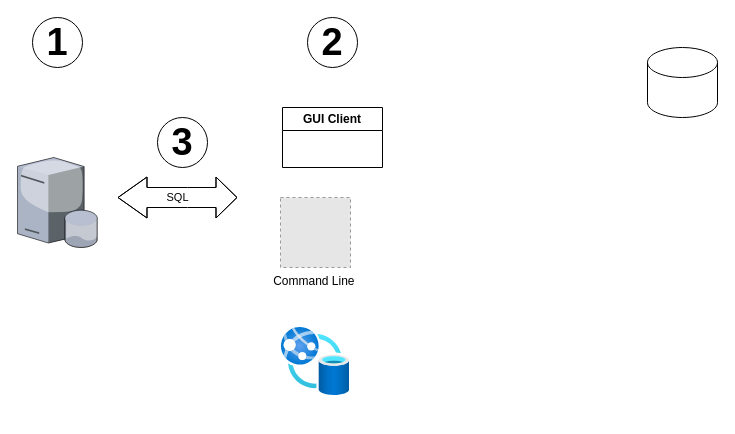
Some shapes in this 735 by 434 pixel diagram are drawn without their labels. Grey dashed boxes stand in for pictures. The shapes that lost their labels are listed below. From the top down, each one's centre as x and y in pixels, then its label:
the point at 682,82: Database
the point at 57,202: Database Server
the point at 315,361: API
